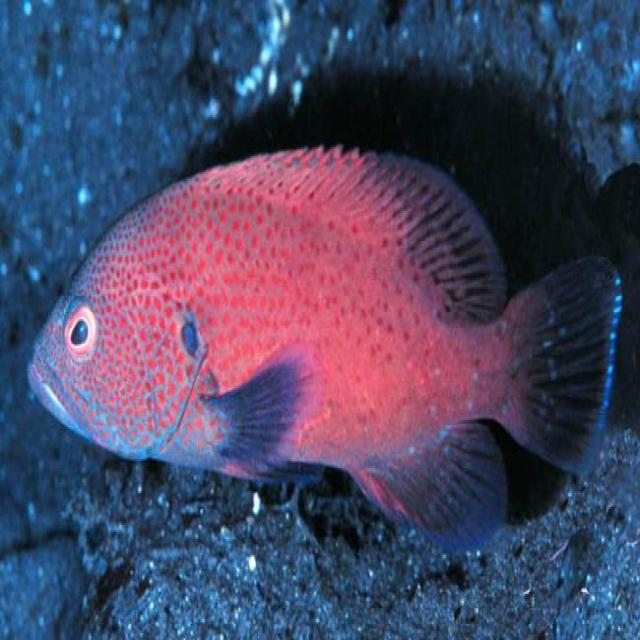ikan: (15, 143, 625, 565)
